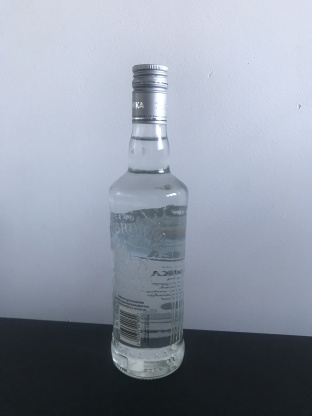nakretka: (130, 63, 169, 124)
